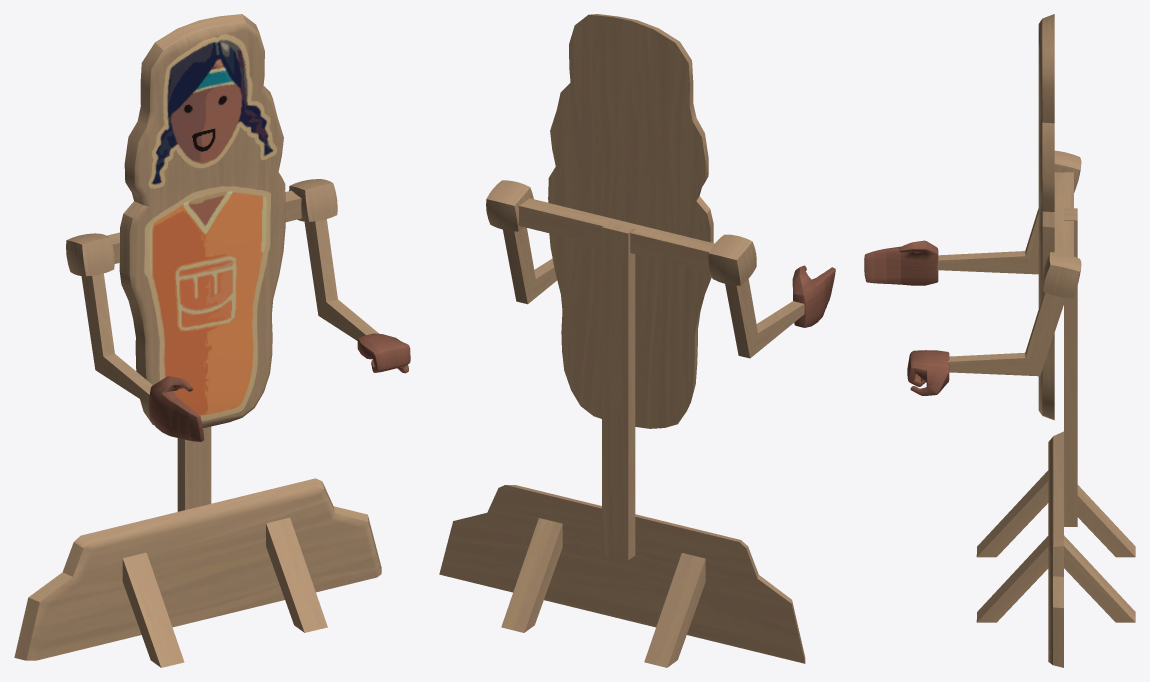
Rendered from fist bumb dummy.glb.
3 renders of one model, left to right at view 1: azimuth 30°, elevation 25°; view 2: azimuth 150°, elevation 25°; view 3: azimuth 270°, elevation 25°, orthographic. The views are drawn at different scales.
Parts seen in each view (by area): view 1: NUX_Dummy_Body, NUX_Dummy, NUX_Dummy_LArm.001, NUX_Dummy_LArm, NUX_Dummy_Hand, NUX_Dummy_Fist; view 2: NUX_Dummy_Body, NUX_Dummy, NUX_Dummy_LArm.001, NUX_Dummy_LArm, NUX_Dummy_Hand; view 3: NUX_Dummy, NUX_Dummy_Body, NUX_Dummy_LArm, NUX_Dummy_LArm.001, NUX_Dummy_Hand, NUX_Dummy_Fist.
Part boxes in pixels (x1,y1,x2,y2): NUX_Dummy_Body: (107,14,301,427); NUX_Dummy: (14,426,381,667); NUX_Dummy_LArm.001: (66,233,152,404); NUX_Dummy_LArm: (289,179,379,340); NUX_Dummy_Hand: (149,376,204,441); NUX_Dummy_Fist: (357,333,410,373); NUX_Dummy_Body: (518,14,714,428); NUX_Dummy: (439,222,805,667); NUX_Dummy_LArm.001: (708,234,804,358); NUX_Dummy_LArm: (486,180,556,304); NUX_Dummy_Hand: (792,265,835,327); NUX_Dummy: (976,208,1135,667); NUX_Dummy_Body: (1038,14,1073,420); NUX_Dummy_LArm: (947,252,1081,376); NUX_Dummy_LArm.001: (937,150,1081,274); NUX_Dummy_Hand: (864,240,938,285); NUX_Dummy_Fist: (907,350,949,395).
Bounding box in the file's own units: 1.11 × 1.73 × 0.7614.
Materials: 2 (2 with a texture image).
